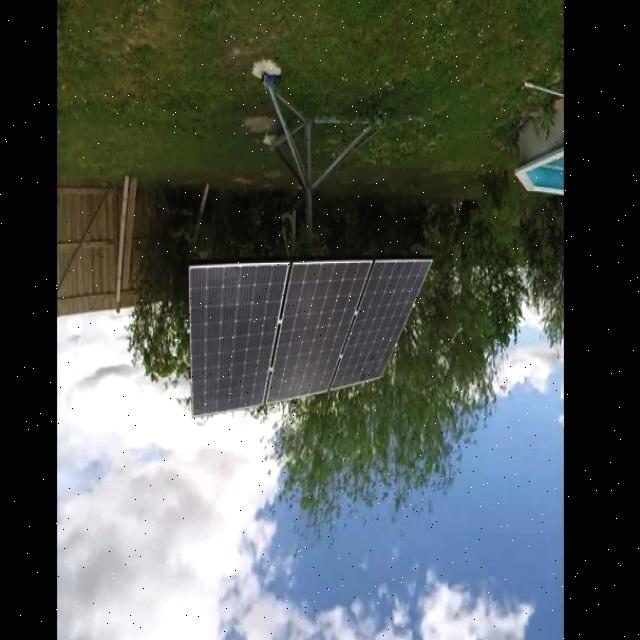Normal Solar Panel: (188, 261, 290, 416), (268, 258, 372, 402)
